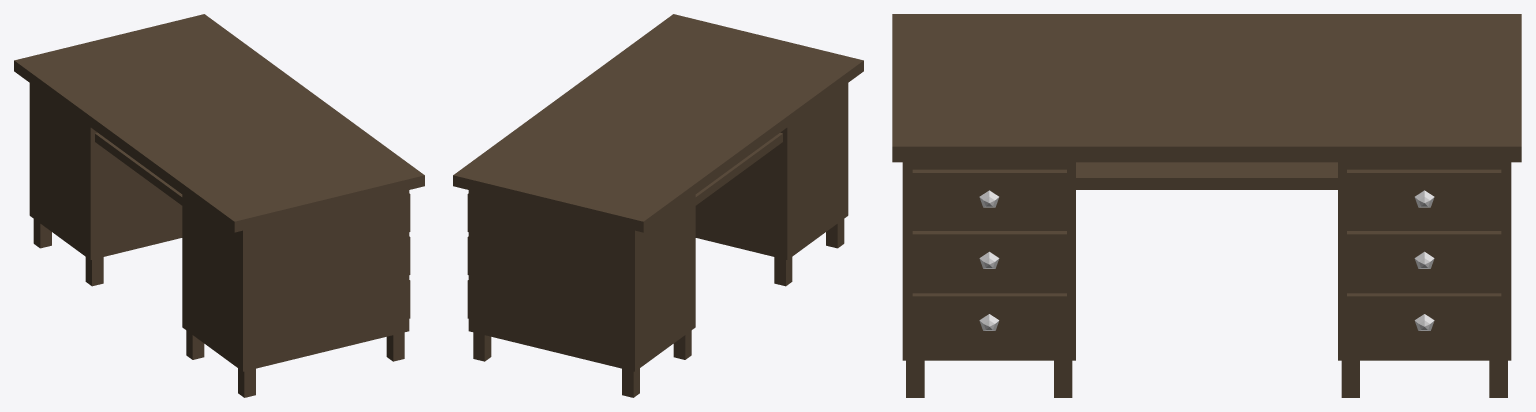
The model's file is SM_Desk_02.glb.
The picture shows the model from 3 angles, left to right: view 1: azimuth 30°, elevation 25°; view 2: azimuth 150°, elevation 25°; view 3: azimuth 270°, elevation 25°; orthographic projection. The views are drawn at different scales.
Parts seen in each view (by area): view 1: SM_Desk_02; view 2: SM_Desk_02; view 3: SM_Desk_02.
Boxes of the visible parts, x1,y1,x2,y2 form: SM_Desk_02: (14,14,424,397); SM_Desk_02: (453,14,863,397); SM_Desk_02: (892,14,1521,397).
Size of the model in its own units: 0.8939 by 0.823 by 1.79.
1 material, 1 textured.
